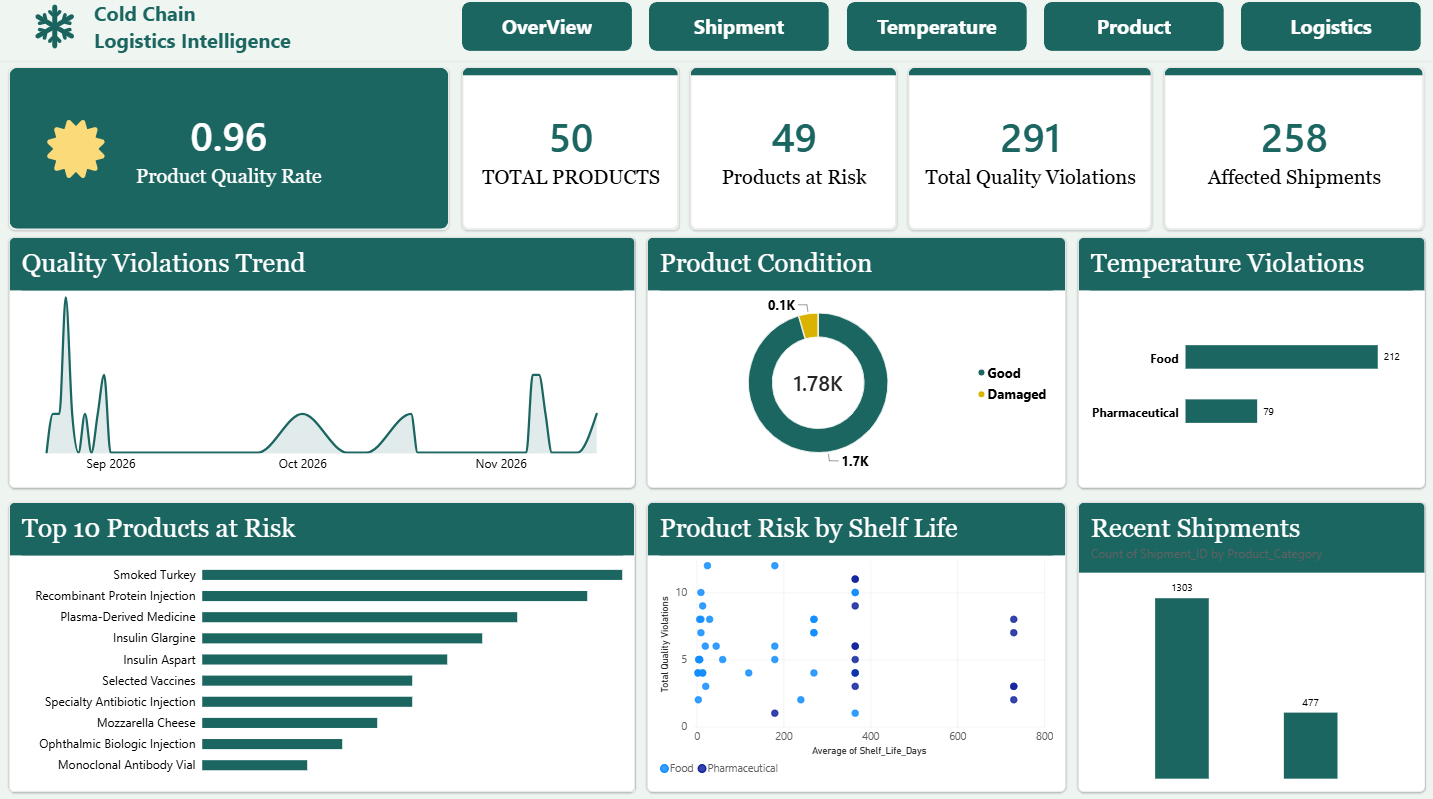

The dashboard page shown, as its layout file describes it:
{"tool":"powerbi","page":{"name":"Product Quality & Risk","canvas":[1920,1080],"ordinal":3},"visuals":[{"type":"cardVisual","fields":{"Data":["_Measures.Products at Risk"]},"box":[925.6,98.7,275.1,216.8],"z":0},{"type":"cardVisual","fields":{"Data":["_Measures.Affected Shipments"]},"box":[1556.2,98.4,345.8,216.8],"z":1000},{"type":"cardVisual","fields":{"Data":["_Measures.Total Quality Violations"]},"box":[1215.7,98.7,324.5,216.8],"z":2000},{"type":"cardVisual","fields":{"Data":["Count(vw_Product_Analysis.Product_ID)"]},"box":[622.5,98.4,288.6,216.8],"z":3000},{"type":"lineChart","title":"Quality Violations Trend","fields":{"Category":["vw_Temperature_Compliance.Reading_Date"],"Y":["_Measures.Total Quality Violations"]},"box":[20,324.5,832.6,333.8],"z":4000},{"type":"donutChart","title":"Product Condition","fields":{"Category":["vw_Shipment_Overview.Product_Condition"],"Y":["CountNonNull(vw_Shipment_Overview.Shipment_ID)"]},"box":[868.5,324.5,557.3,333.8],"z":5000},{"type":"clusteredBarChart","title":"Temperature Violations ","fields":{"Category":["vw_Temperature_Compliance.Product_Category"],"Y":["_Measures.Total Quality Violations"]},"box":[1441.8,324.5,461.5,333.8],"z":6000},{"type":"clusteredBarChart","title":"Top 10 Products at Risk","fields":{"Category":["vw_Temperature_Compliance.Product_Name"],"Y":["_Measures.Total Quality Violations"]},"box":[20,677,832.6,385.7],"z":7000},{"type":"cardVisual","fields":{"Data":["_Measures.Product Quality Rate"]},"box":[20,98.4,585.2,216.8],"z":8000},{"type":"scatterChart","title":"Product Risk by Shelf Life","fields":{"Category":["vw_Product_Analysis.Product_Name"],"Series":["vw_Product_Analysis.Product_Category"],"X":["Avg(vw_Product_Analysis.Shelf_Life_Days)"],"Y":["_Measures.Total Quality Violations"]},"box":[868.5,677,557.3,385.7],"z":9000},{"type":"clusteredColumnChart","title":"Recent Shipments","fields":{"Category":["vw_Shipment_Overview.Product_Category"],"Y":["CountNonNull(vw_Shipment_Overview.Shipment_ID)"]},"box":[1442,677,462,386],"z":10000},{"type":"shape","box":[0,0,1920.6,90.4],"z":11000},{"type":"image","box":[63.8,153,90.4,109.1],"z":12000},{"type":"actionButton","box":[622.5,12,226.1,65.2],"z":13000},{"type":"actionButton","box":[871.5,12,239.4,65.2],"z":14000},{"type":"actionButton","box":[1133.9,12,239.4,65.2],"z":15000},{"type":"actionButton","box":[1396.2,12,239.4,65.2],"z":16000},{"type":"actionButton","box":[1658.6,12,239.4,65.2],"z":17000},{"type":"image","box":[41.2,12,78.5,65.2],"z":18000},{"type":"textbox","box":[133,8,445.6,90.4],"z":19000}]}

Visuals, with their boxes in screenshot pixels (x1, y1, x2, y2), scaled from the page's 1920x1080 canvas onto the 1433x799 screenshot:
cardVisual - _Measures.Products at Risk: [x1=691, y1=73, x2=896, y2=233]
cardVisual - _Measures.Affected Shipments: [x1=1161, y1=73, x2=1420, y2=233]
cardVisual - _Measures.Total Quality Violations: [x1=907, y1=73, x2=1150, y2=233]
cardVisual - Count(vw_Product_Analysis.Product_ID): [x1=465, y1=73, x2=680, y2=233]
"Quality Violations Trend" lineChart: [x1=15, y1=240, x2=636, y2=487]
"Product Condition" donutChart: [x1=648, y1=240, x2=1064, y2=487]
"Temperature Violations " clusteredBarChart: [x1=1076, y1=240, x2=1421, y2=487]
"Top 10 Products at Risk" clusteredBarChart: [x1=15, y1=501, x2=636, y2=786]
cardVisual - _Measures.Product Quality Rate: [x1=15, y1=73, x2=452, y2=233]
"Product Risk by Shelf Life" scatterChart: [x1=648, y1=501, x2=1064, y2=786]
"Recent Shipments" clusteredColumnChart: [x1=1076, y1=501, x2=1421, y2=786]
shape: [x1=0, y1=0, x2=1432, y2=67]
image: [x1=48, y1=113, x2=115, y2=194]
actionButton: [x1=465, y1=9, x2=633, y2=57]
actionButton: [x1=650, y1=9, x2=829, y2=57]
actionButton: [x1=846, y1=9, x2=1025, y2=57]
actionButton: [x1=1042, y1=9, x2=1221, y2=57]
actionButton: [x1=1238, y1=9, x2=1417, y2=57]
image: [x1=31, y1=9, x2=89, y2=57]
textbox: [x1=99, y1=6, x2=432, y2=73]
